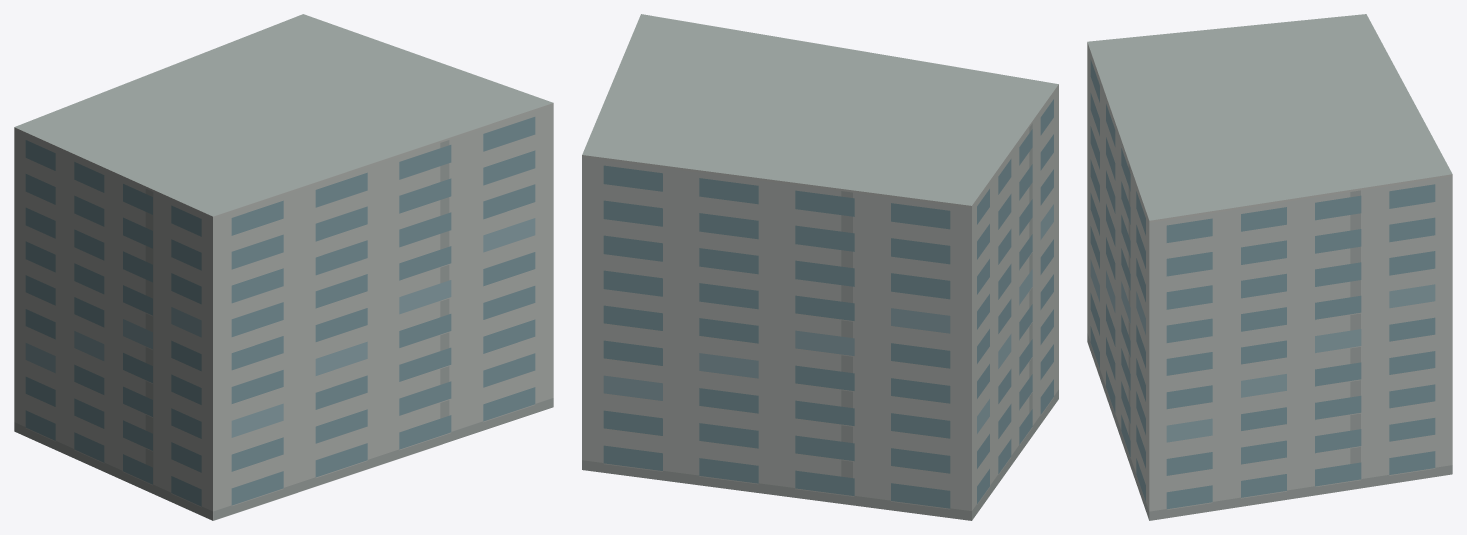
The model's file is residential-fc5bcc51-8ddd-443b-876a-11656745e62d.glb.
3 views of the same model, side by side, from view 1: azimuth 30°, elevation 25°; view 2: azimuth 150°, elevation 25°; view 3: azimuth 270°, elevation 25° (orthographic). The views are drawn at different scales.
Visible parts, largest first — view 1: residential-fc5bcc51-8ddd-443b-876a-11656745e62d.tmp; view 2: residential-fc5bcc51-8ddd-443b-876a-11656745e62d.tmp; view 3: residential-fc5bcc51-8ddd-443b-876a-11656745e62d.tmp.
Boxes of the visible parts, <box> form: residential-fc5bcc51-8ddd-443b-876a-11656745e62d.tmp: <box>14,14,553,520</box>; residential-fc5bcc51-8ddd-443b-876a-11656745e62d.tmp: <box>582,14,1058,520</box>; residential-fc5bcc51-8ddd-443b-876a-11656745e62d.tmp: <box>1087,14,1452,520</box>.
Bounding box in the file's own units: 51.72 × 35 × 38.62.
